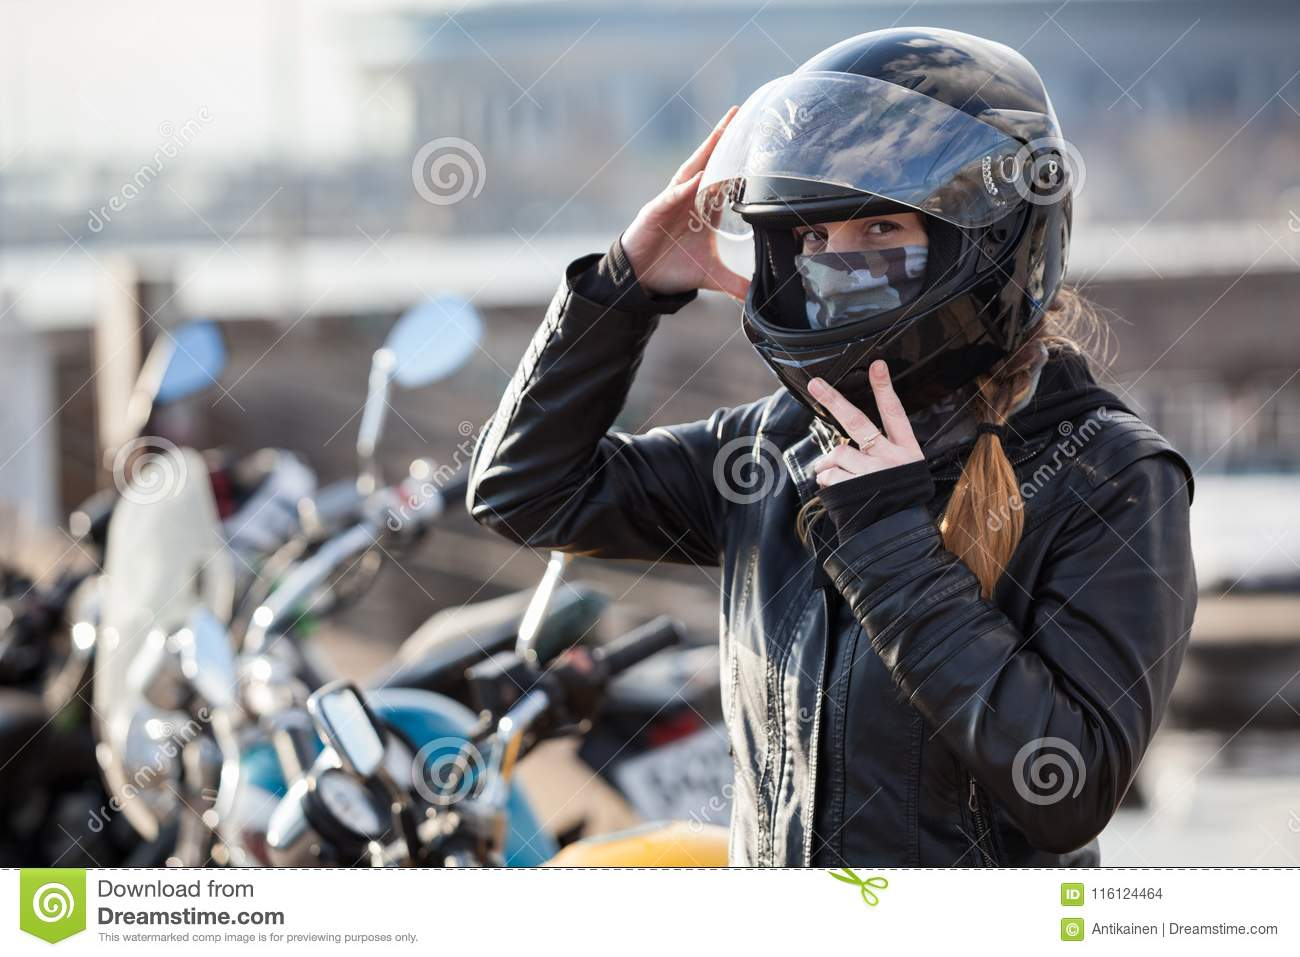helmet: (723, 30, 1099, 427)
